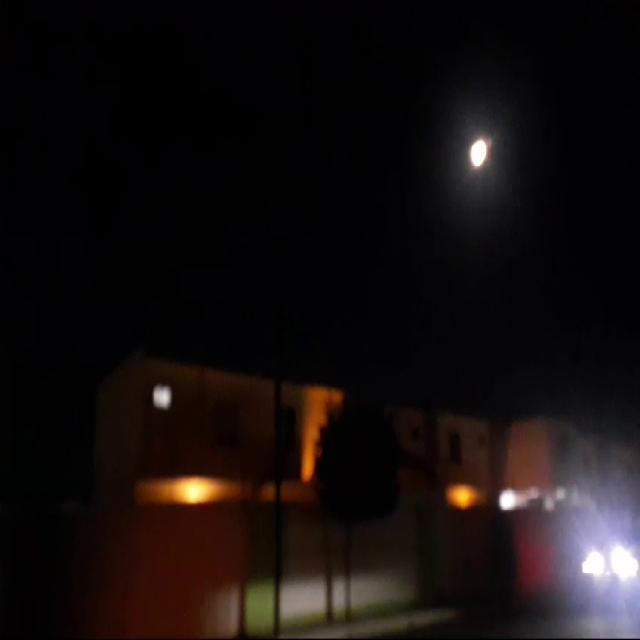moon: (465, 137, 485, 171)
